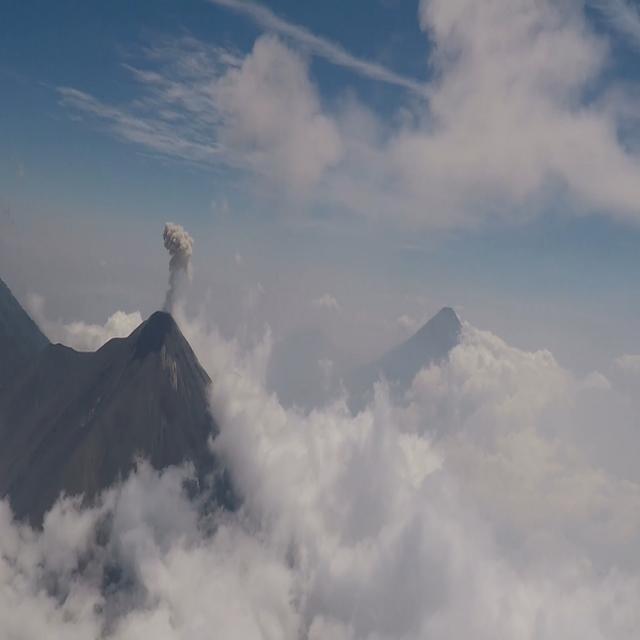Plume: (161, 222, 194, 298)
Summit: (94, 299, 195, 357)
